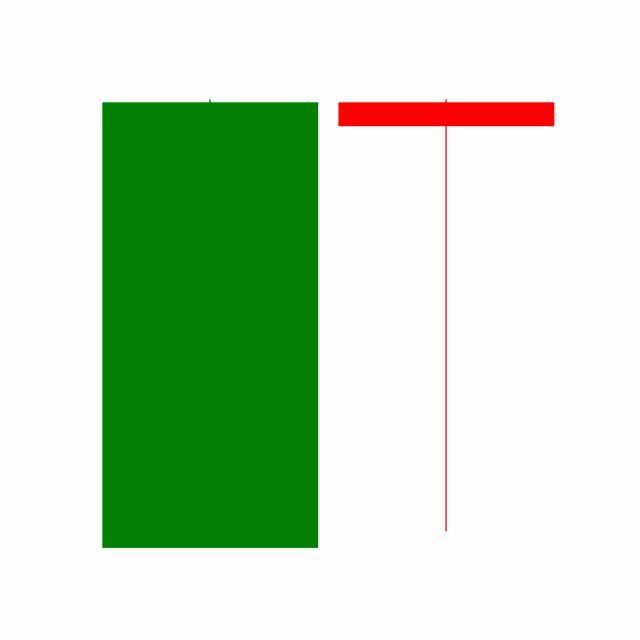Dragonfly Doji: (328, 95, 566, 537)
